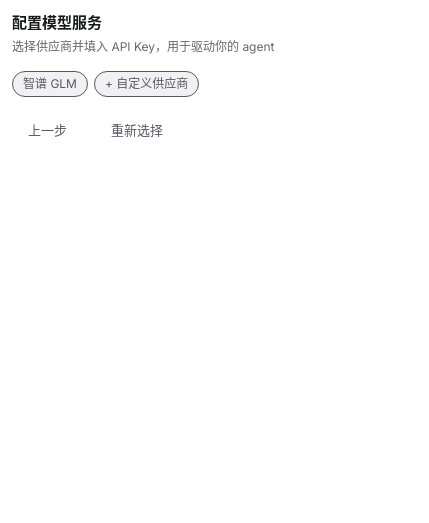
Scenario: ProviderStep › 自定义供应商形态：名称/平台/Base URL/模型名手填
Click the button "+ 自定义供应商": click(147, 84) [94, 70, 199, 96]
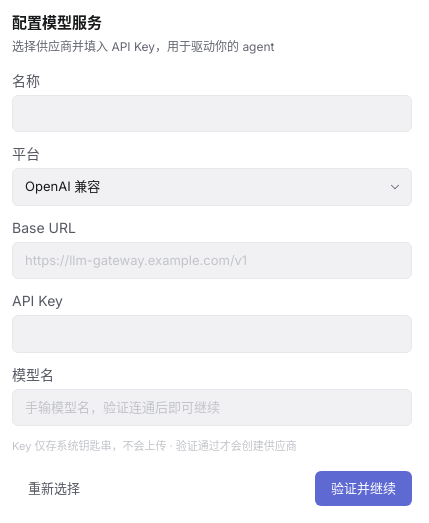
Expected: the field labelled "Base URL" is shown, [12, 242, 412, 279]
Expected: the field labelled "模型名" is shown, [12, 388, 412, 426]
